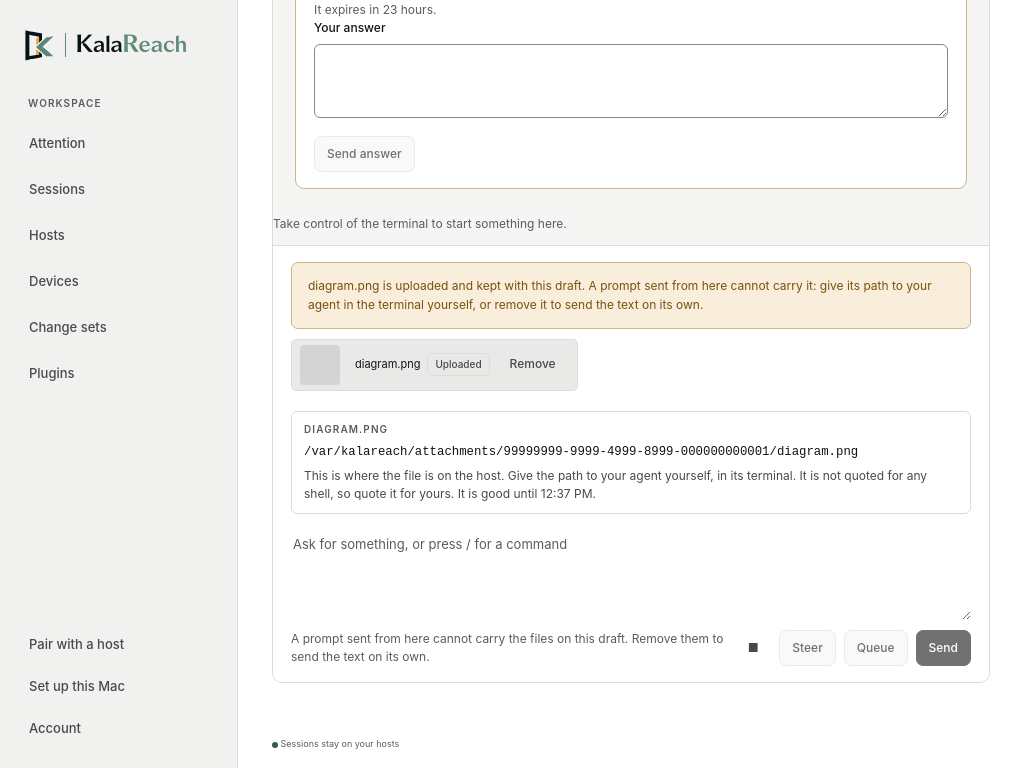
Test: the semantic view › sends a dropped file through the transfer service and keeps it with the draft
(page scrolled)
Expected: the button with test id "composer-queue" is shown, [844,630,908,666]
Expected: the text with test id "insertion-refusal" shows "diagram.png is uploaded and kept with this draft.", [308,278,932,312]
// A prompt from here cannot carry it, so none is sent that would leave it behind.
Type "Look at this" into the text box with test id "composer-input" at (631, 577), box [291,534,971,620]
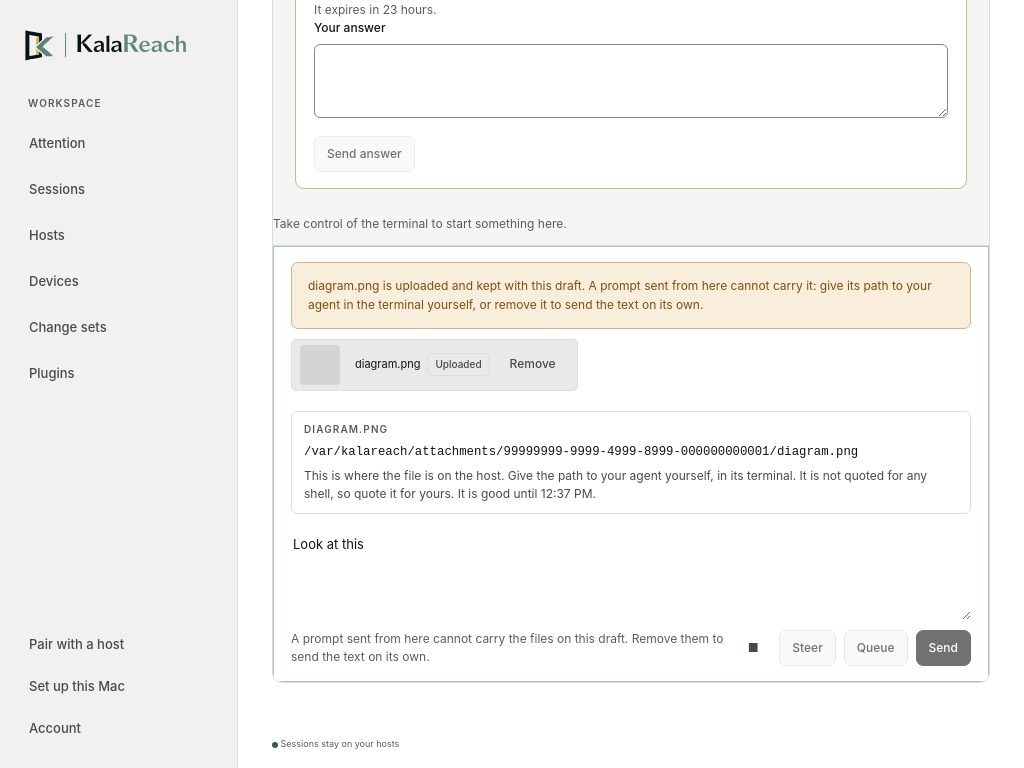
Expected: the button with test id "composer-send" is disabled, [916,630,971,666]
Expected: the text with test id "composer-reason" shows "Remove them to send the text on its own.", [291,631,724,664]
// Only the person takes it off, and then the text goes on its own.
Click the button with aria-label "Remove diagram.png from this draft" at (533, 365), box [497,347,569,383]
(page scrolled)
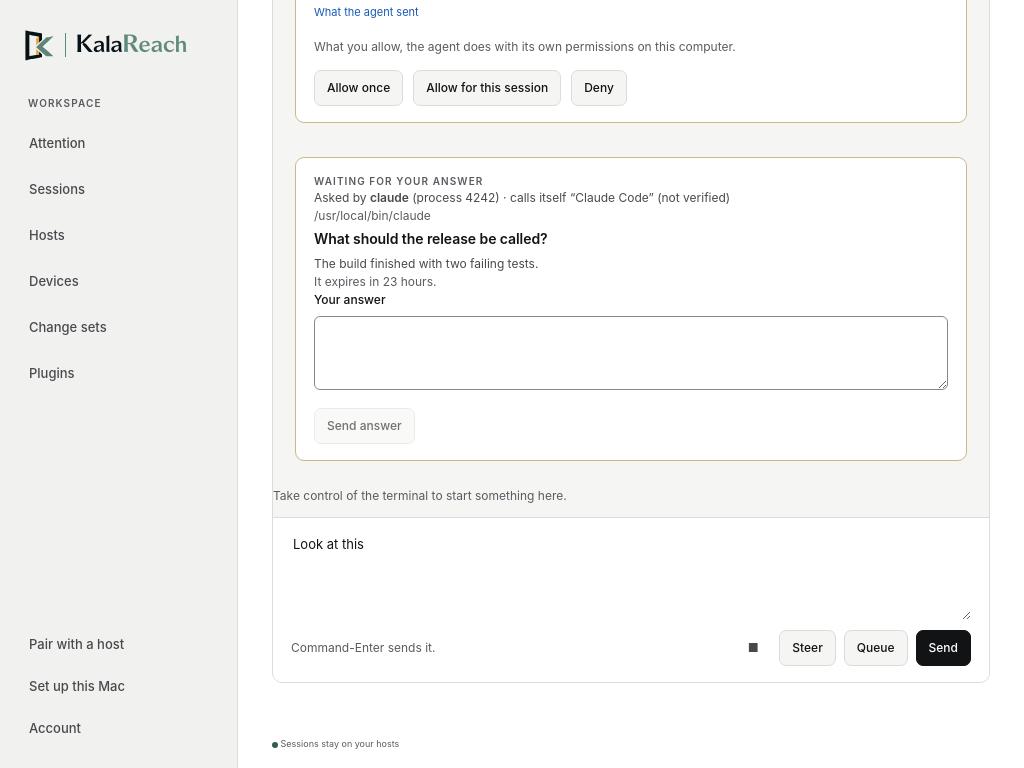
Expected: the element with test id "draft-attachments" is gone
Expected: the button with test id "composer-send" is enabled, [916,630,971,666]
